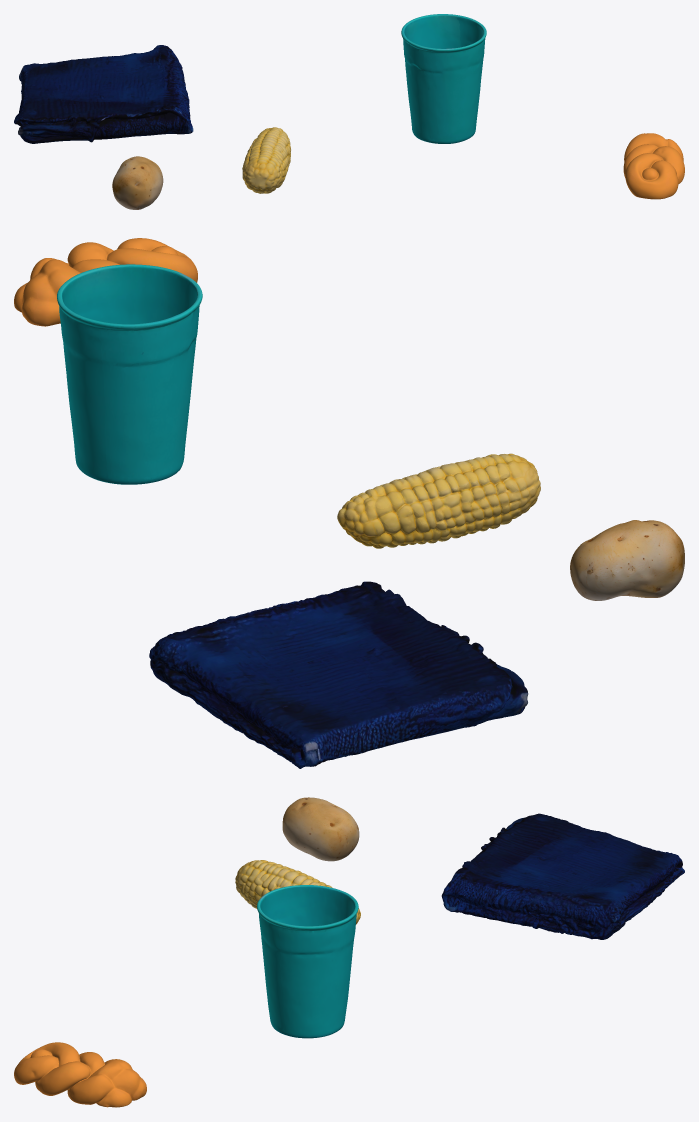
File: simfoundry.glb
3 renders of one model, top to bottom at view 1: azimuth 30°, elevation 25°; view 2: azimuth 150°, elevation 25°; view 3: azimuth 270°, elevation 25°, orthographic. The views are drawn at different scales.
Parts seen in each view (by area): view 1: purple_towel_xevzcc_link_iter_4_canonical_mesh_obj, teal_cup_sfnrnc_link_iter_1_canonical_mesh_obj, orange_braided_bread_zsaajj_link_iter_0_canonical_mesh_obj, yellow_corn_cob_ufzazv_link_iter_2_canonical_mesh_obj, potato_ifvphf_link_iter_3_canonical_mesh_obj; view 2: purple_towel_xevzcc_link_iter_4_canonical_mesh_obj, teal_cup_sfnrnc_link_iter_1_canonical_mesh_obj, yellow_corn_cob_ufzazv_link_iter_2_canonical_mesh_obj, potato_ifvphf_link_iter_3_canonical_mesh_obj, orange_braided_bread_zsaajj_link_iter_0_canonical_mesh_obj; view 3: purple_towel_xevzcc_link_iter_4_canonical_mesh_obj, teal_cup_sfnrnc_link_iter_1_canonical_mesh_obj, orange_braided_bread_zsaajj_link_iter_0_canonical_mesh_obj, potato_ifvphf_link_iter_3_canonical_mesh_obj, yellow_corn_cob_ufzazv_link_iter_2_canonical_mesh_obj.
Boxes of the visible parts, <box> form: purple_towel_xevzcc_link_iter_4_canonical_mesh_obj: <box>14,45,193,143</box>; teal_cup_sfnrnc_link_iter_1_canonical_mesh_obj: <box>401,14,486,143</box>; orange_braided_bread_zsaajj_link_iter_0_canonical_mesh_obj: <box>623,133,684,199</box>; yellow_corn_cob_ufzazv_link_iter_2_canonical_mesh_obj: <box>242,127,290,193</box>; potato_ifvphf_link_iter_3_canonical_mesh_obj: <box>112,156,163,209</box>; purple_towel_xevzcc_link_iter_4_canonical_mesh_obj: <box>149,581,528,768</box>; teal_cup_sfnrnc_link_iter_1_canonical_mesh_obj: <box>57,264,202,484</box>; yellow_corn_cob_ufzazv_link_iter_2_canonical_mesh_obj: <box>337,453,540,548</box>; potato_ifvphf_link_iter_3_canonical_mesh_obj: <box>570,520,684,600</box>; orange_braided_bread_zsaajj_link_iter_0_canonical_mesh_obj: <box>14,238,197,326</box>; purple_towel_xevzcc_link_iter_4_canonical_mesh_obj: <box>441,813,684,939</box>; teal_cup_sfnrnc_link_iter_1_canonical_mesh_obj: <box>257,885,358,1038</box>; orange_braided_bread_zsaajj_link_iter_0_canonical_mesh_obj: <box>14,1042,146,1107</box>; potato_ifvphf_link_iter_3_canonical_mesh_obj: <box>282,797,359,861</box>; yellow_corn_cob_ufzazv_link_iter_2_canonical_mesh_obj: <box>235,860,360,924</box>.
Size of what is drawn, in the model's own units: 0.5406 by 0.1106 by 0.5577.
5 materials, 5 textured.
